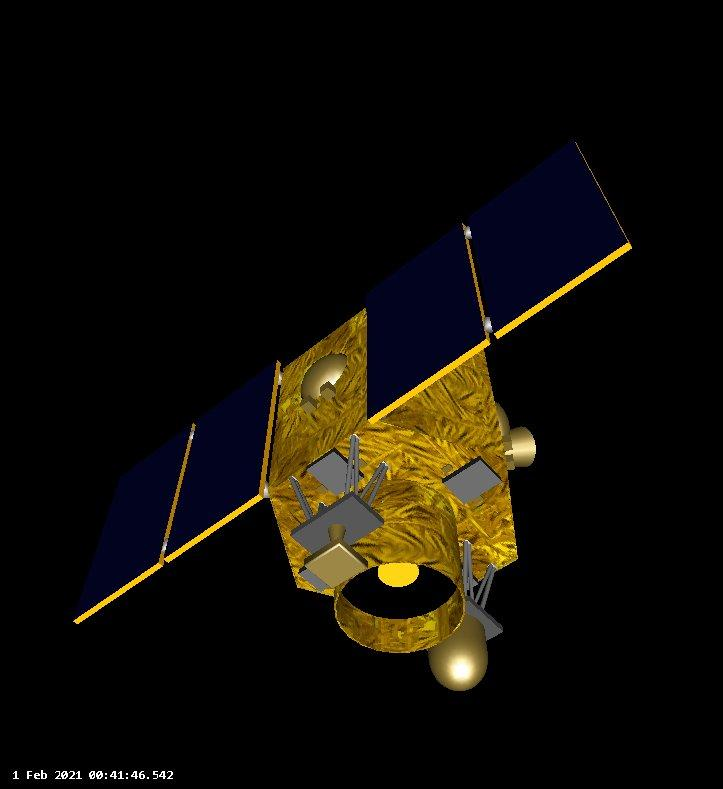antenna: (287, 434, 394, 590), (460, 539, 508, 644)
body: (266, 305, 521, 614)
solar: (365, 140, 633, 426), (72, 357, 284, 632)
thruster: (334, 476, 467, 656), (503, 426, 539, 469)
